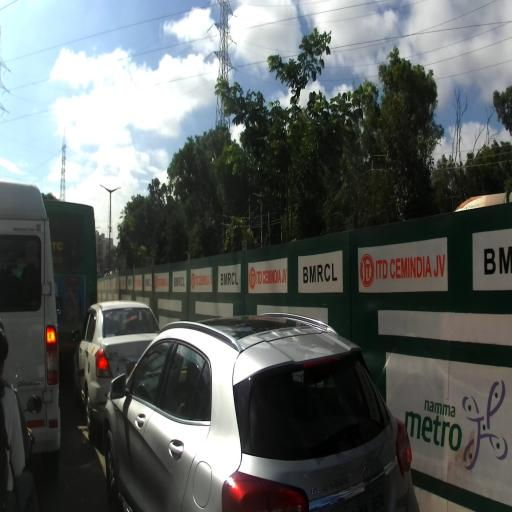street_light_0: (98, 183, 112, 196), (110, 186, 121, 196), (93, 225, 101, 230)
